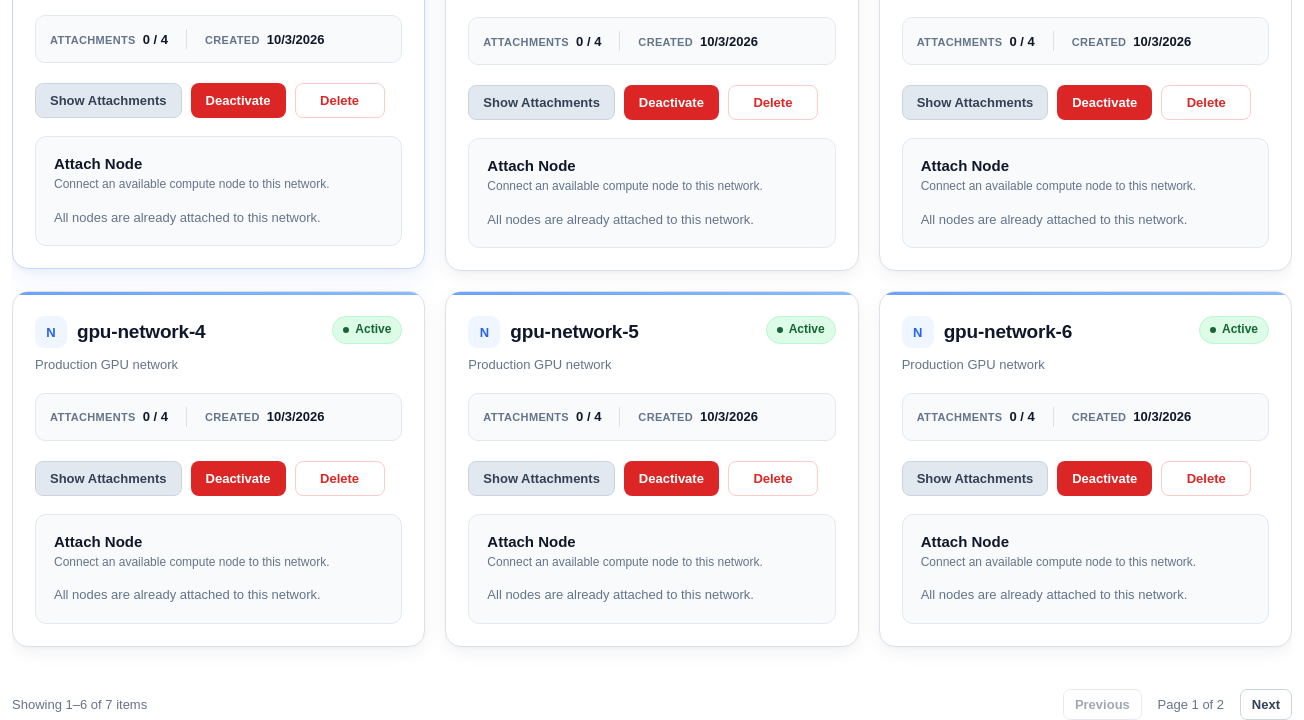
Test: NetworksSection › paginates network cards
(page scrolled)
Expected: the heading "gpu-network-7" is not shown
Click the button "Next" at (1266, 704), box [1240, 689, 1292, 719]
(page scrolled)
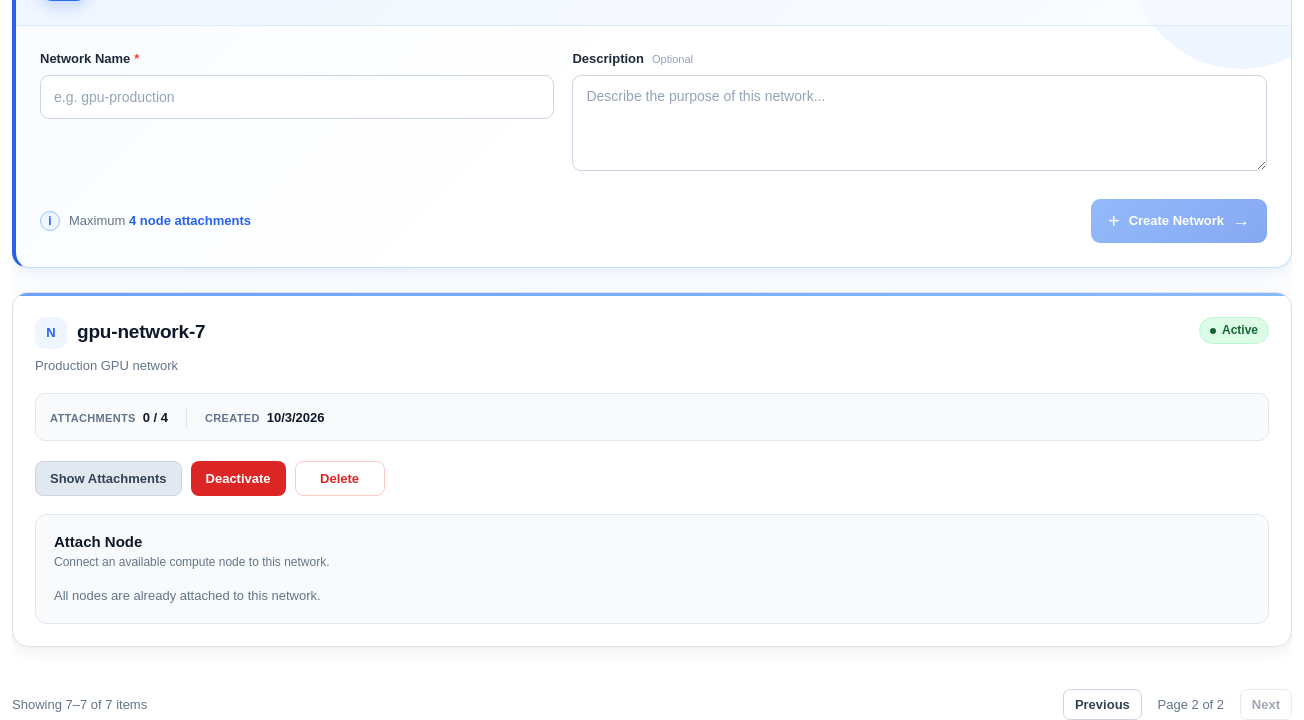
Expected: the heading "gpu-network-7" is shown, [77, 320, 205, 345]
